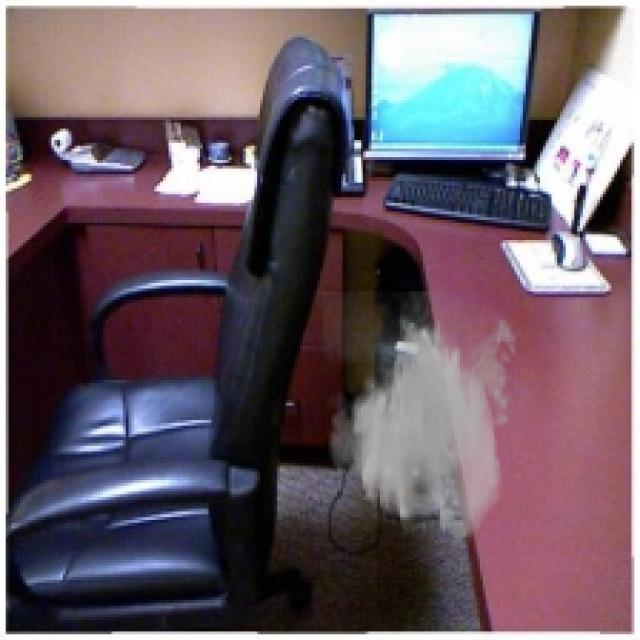Smoke: (323, 291, 523, 546)
